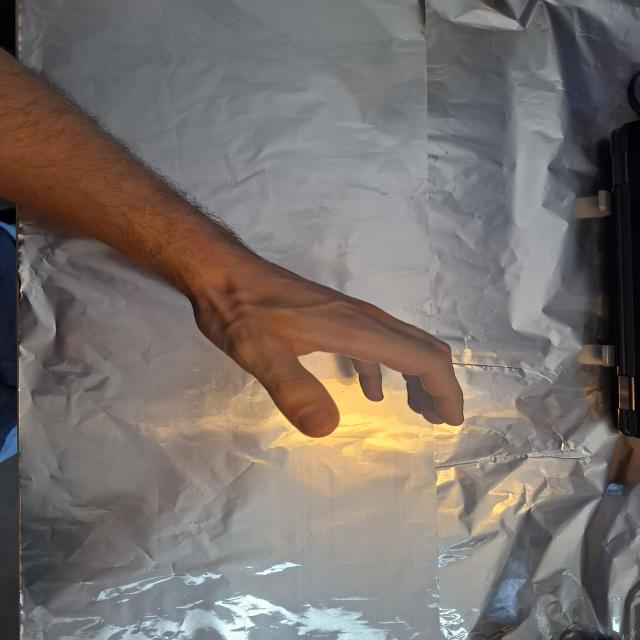glove_off: (190, 252, 473, 439)
